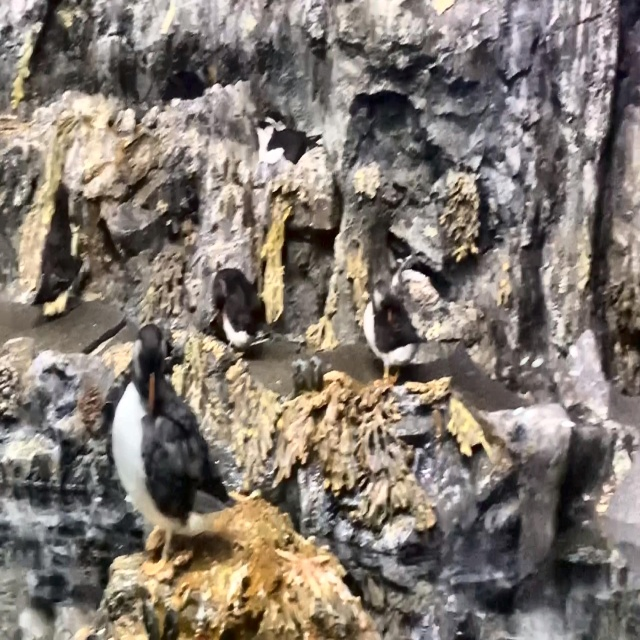puffin: (111, 321, 235, 580), (363, 277, 424, 393), (211, 266, 266, 357), (253, 116, 325, 168)
